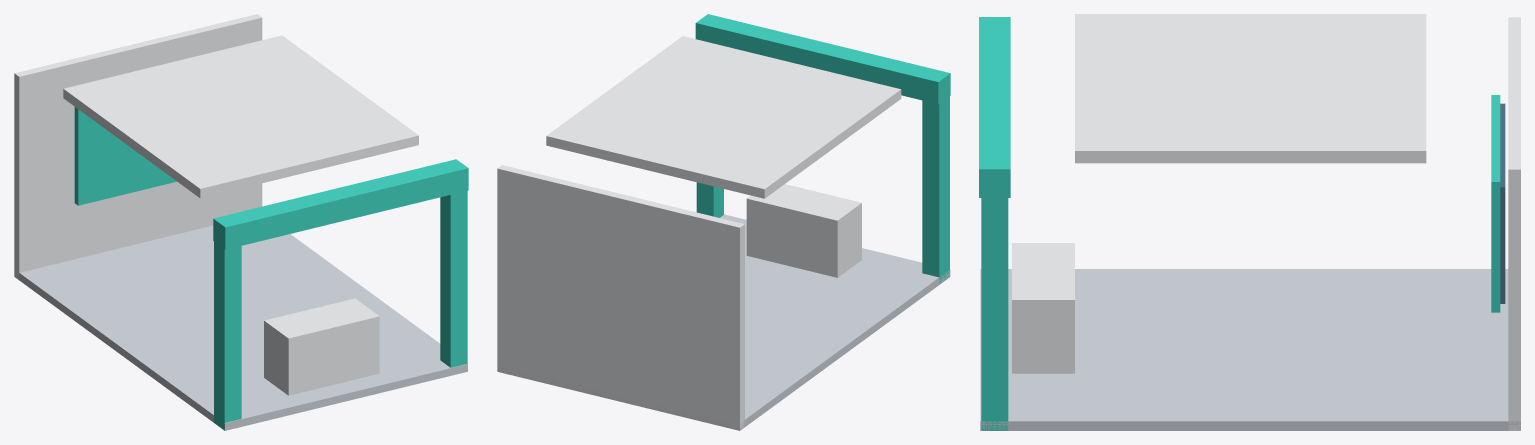
The picture shows the model from 3 angles, left to right: view 1: azimuth 30°, elevation 25°; view 2: azimuth 150°, elevation 25°; view 3: azimuth 270°, elevation 25°; orthographic projection. The views are drawn at different scales.
Parts seen in each view (by area): view 1: Exhibition Booth Concept; view 2: Exhibition Booth Concept; view 3: Exhibition Booth Concept.
Part boxes in pixels (x1,y1,x2,y2): Exhibition Booth Concept: (14, 14, 468, 430); Exhibition Booth Concept: (497, 14, 950, 430); Exhibition Booth Concept: (979, 14, 1520, 430).
Bounding box in the file's own units: 4 × 3.34 × 6.02.
